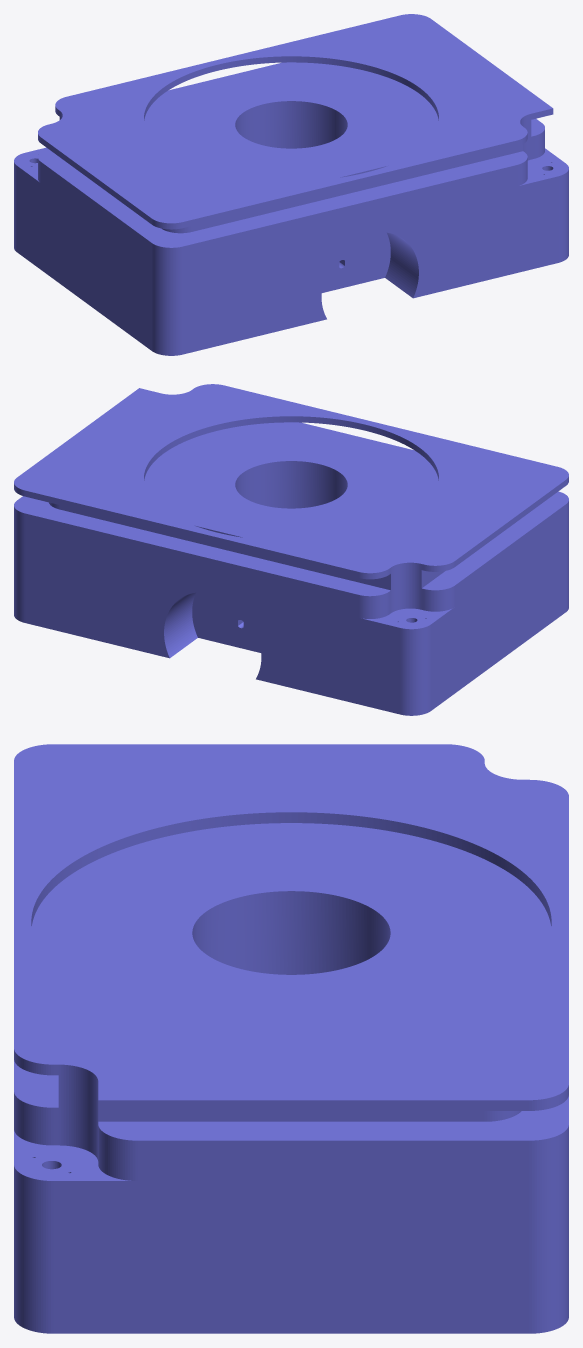
File: main_frame.dae
3 views of the same model, one above another, from view 1: azimuth 30°, elevation 25°; view 2: azimuth 150°, elevation 25°; view 3: azimuth 270°, elevation 25° (orthographic). The views are drawn at different scales.
Visible parts, largest first — view 1: Untitled; view 2: Untitled; view 3: Untitled.
Part boxes in pixels (x1,y1,x2,y2): Untitled: [14, 14, 568, 355]; Untitled: [14, 384, 568, 715]; Untitled: [14, 744, 568, 1333].
Bounding box in the file's own units: 0.85 × 0.56 × 0.26.
